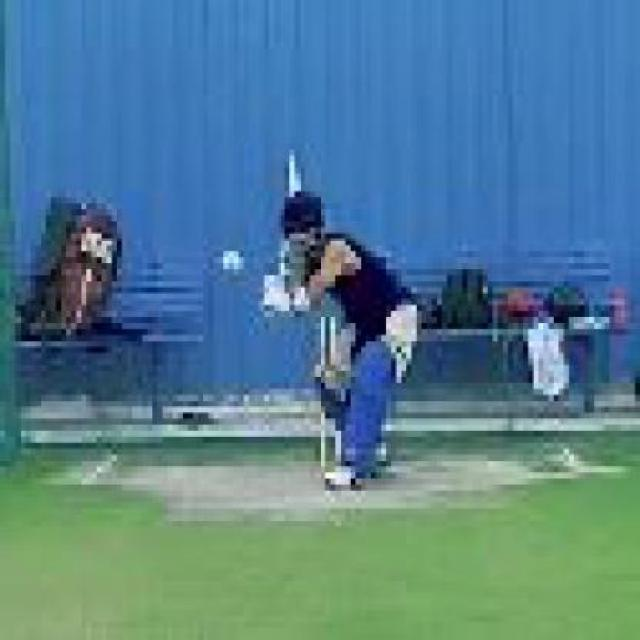ball: (218, 243, 250, 279)
